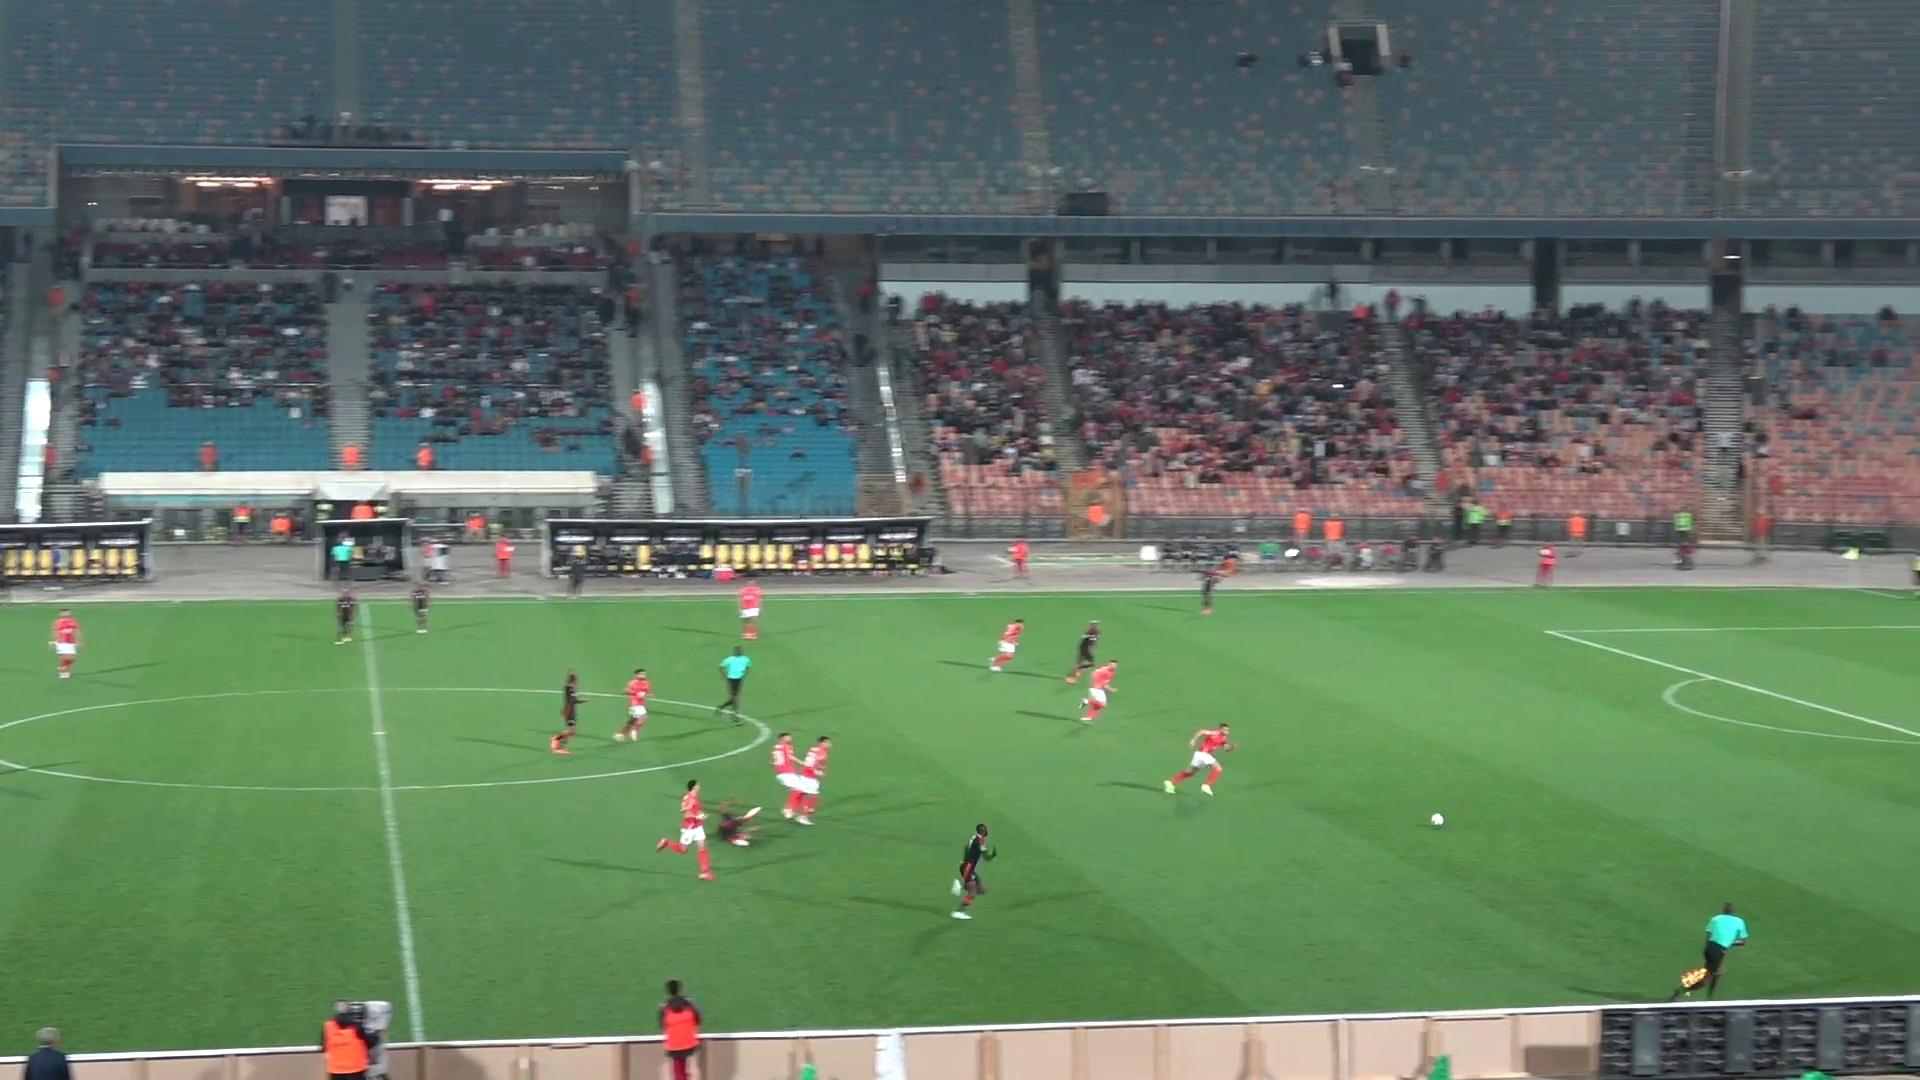Ball: (1427, 812, 1447, 828)
Refree: (1668, 902, 1749, 1001), (716, 645, 752, 715)
Team1: (655, 781, 715, 880), (1163, 723, 1236, 795), (783, 736, 832, 825), (613, 669, 653, 741), (1077, 661, 1118, 723), (771, 735, 800, 819), (47, 609, 83, 678), (986, 618, 1025, 671), (736, 580, 764, 640)
Team2: (951, 824, 996, 916), (550, 671, 585, 754), (1193, 554, 1237, 615), (708, 798, 761, 847), (1064, 621, 1100, 683), (332, 588, 364, 644), (407, 583, 433, 633)
